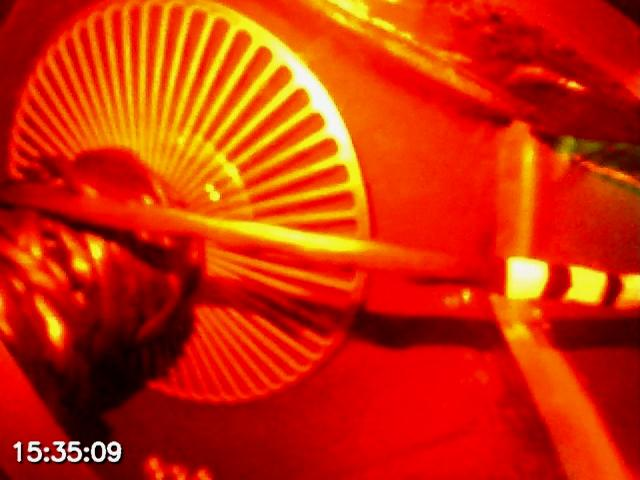white-dots: (505, 255, 640, 312)
